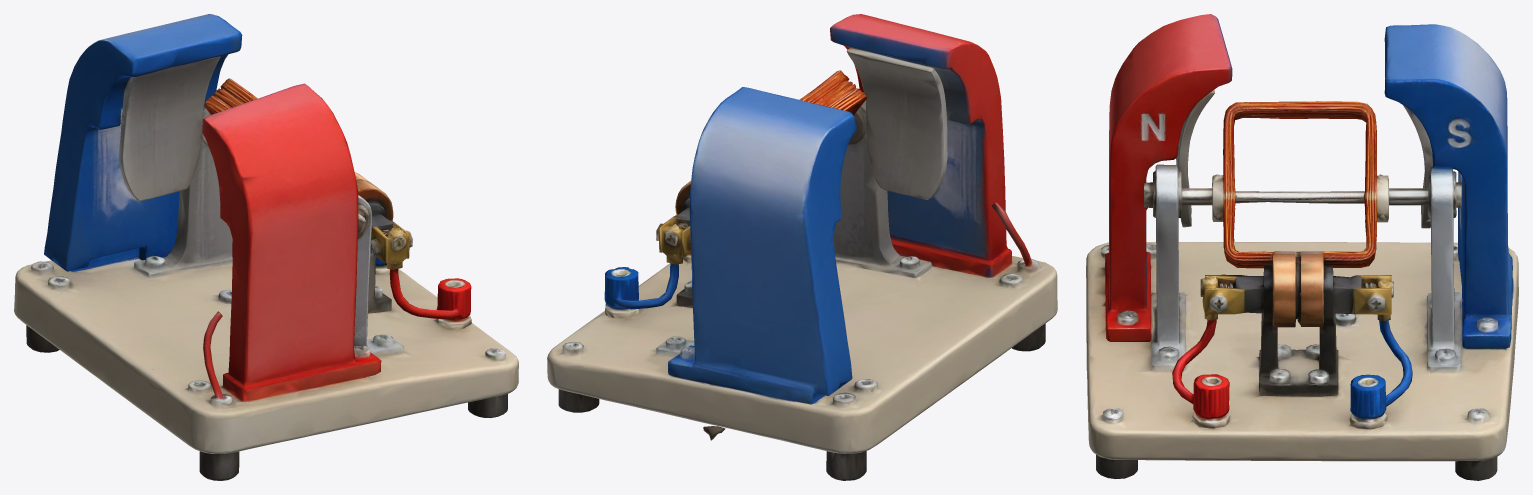
File: dc-motor-model.glb
3 renders of one model, left to right at view 1: azimuth 30°, elevation 25°; view 2: azimuth 150°, elevation 25°; view 3: azimuth 270°, elevation 25°, orthographic. The views are drawn at different scales.
Visible parts, largest first — view 1: dc-motor-model; view 2: dc-motor-model; view 3: dc-motor-model.
Part boxes in pixels (bbox=[...]): dc-motor-model: bbox=[14, 14, 518, 480]; dc-motor-model: bbox=[547, 14, 1057, 480]; dc-motor-model: bbox=[1086, 14, 1518, 480].
Size of the model in its own units: 0.1836 by 0.1726 by 0.2.
Materials: 1 (1 with a texture image).
